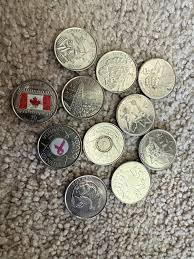coin: (12, 80, 57, 122), (37, 125, 80, 168), (54, 27, 96, 70), (65, 175, 106, 218), (62, 76, 103, 117), (83, 122, 123, 164), (96, 51, 136, 92), (111, 161, 149, 203), (116, 94, 154, 135), (139, 129, 175, 169), (138, 58, 174, 98)
